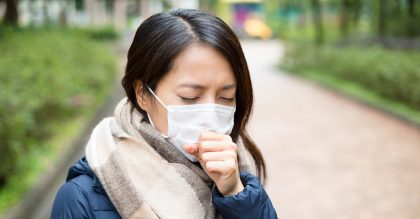with_mask: (144, 23, 259, 180)
